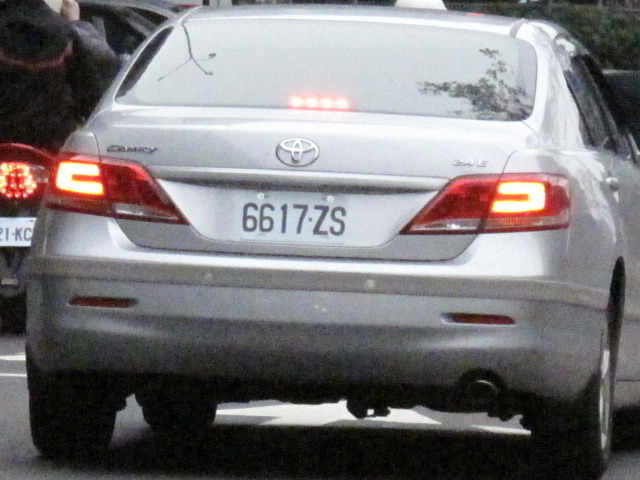plate: (235, 189, 350, 246)
